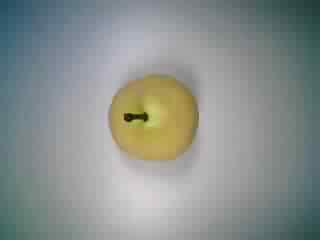pear: (96, 64, 201, 167)
